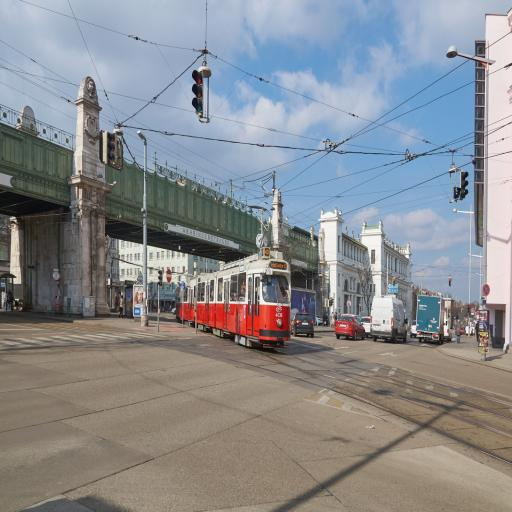E2-Tram: (183, 249, 293, 345)
